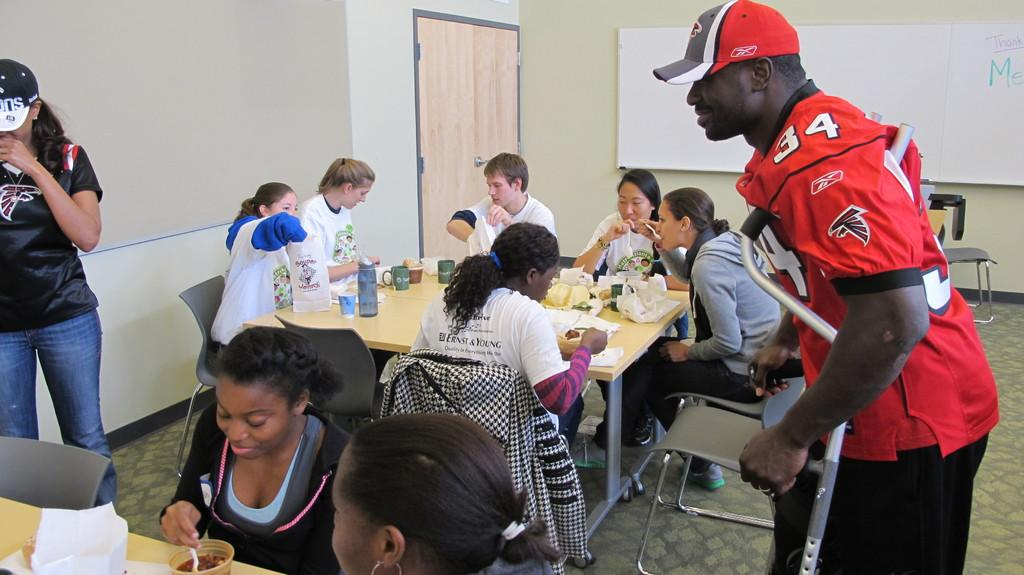Hat: (651, 0, 801, 87), (0, 59, 37, 131)
